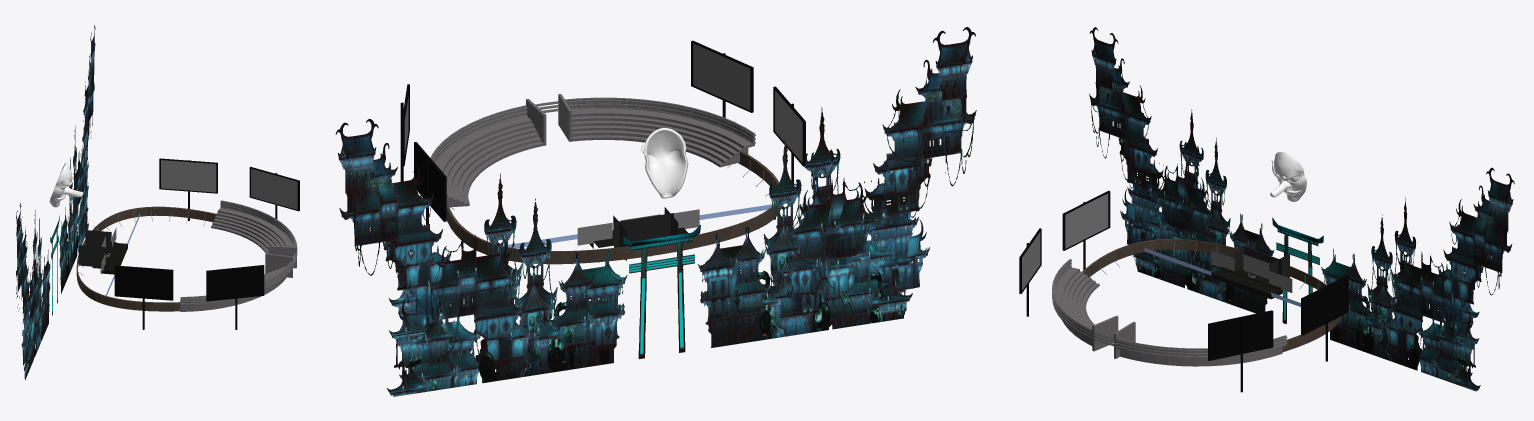
File: Festival-N.fbx
3 renders of one model, left to right at view 1: azimuth 30°, elevation 25°; view 2: azimuth 150°, elevation 25°; view 3: azimuth 270°, elevation 25°, orthographic. The views are drawn at different scales.
Parts seen in each view (by area): view 1: Plane001, Billboards_Base_1, NewStage_1, Billboards_Screen_1, Object, StairsGlow_1, SM_DJControl01_2_1, Mask_Tengu_1_2, SM_Stage_Skirt_4; view 2: Plane001, NewStage_1, Object, Billboards_Screen_1, Billboards_Base_1, Mask_Tengu_1_2, StairsGlow_1, SM_DJControl01_2_1, Plane_3; view 3: Plane001, Billboards_Base_1, NewStage_1, Object, Billboards_Screen_1, StairsGlow_1, Mask_Tengu_1_2, SM_Stage_Skirt_4, Plane_3, SM_DJControl01_2_1.
Part boxes in pixels (x1=…): Plane001: x1=16, y1=25, x2=95, y2=380; Billboards_Base_1: x1=114, y1=158, x2=299, y2=329; NewStage_1: x1=180, y1=200, x2=296, y2=311; Billboards_Screen_1: x1=161, y1=160, x2=297, y2=209; Object: x1=76, y1=206, x2=216, y2=311; StairsGlow_1: x1=77, y1=201, x2=297, y2=304; SM_DJControl01_2_1: x1=79, y1=229, x2=111, y2=266; Mask_Tengu_1_2: x1=49, y1=162, x2=83, y2=207; SM_Stage_Skirt_4: x1=92, y1=242, x2=127, y2=274; Plane001: x1=335, y1=27, x2=976, y2=396; NewStage_1: x1=430, y1=94, x2=754, y2=207; Object: x1=446, y1=151, x2=781, y2=264; Billboards_Screen_1: x1=404, y1=43, x2=802, y2=162; Billboards_Base_1: x1=400, y1=40, x2=805, y2=224; Mask_Tengu_1_2: x1=641, y1=128, x2=688, y2=198; StairsGlow_1: x1=432, y1=99, x2=773, y2=264; SM_DJControl01_2_1: x1=613, y1=207, x2=678, y2=260; Plane_3: x1=577, y1=209, x2=699, y2=245; Plane001: x1=1089, y1=27, x2=1514, y2=391; Billboards_Base_1: x1=1019, y1=190, x2=1348, y2=392; NewStage_1: x1=1052, y1=259, x2=1286, y2=366; Object: x1=1082, y1=239, x2=1340, y2=351; Billboards_Screen_1: x1=1022, y1=193, x2=1108, y2=290; StairsGlow_1: x1=1052, y1=241, x2=1318, y2=357; Mask_Tengu_1_2: x1=1270, y1=152, x2=1306, y2=201; SM_Stage_Skirt_4: x1=1211, y1=264, x2=1282, y2=299; Plane_3: x1=1211, y1=250, x2=1292, y2=292; SM_DJControl01_2_1: x1=1235, y1=241, x2=1289, y2=278.
Size of the model in its own units: 130 by 71.91 by 137.
